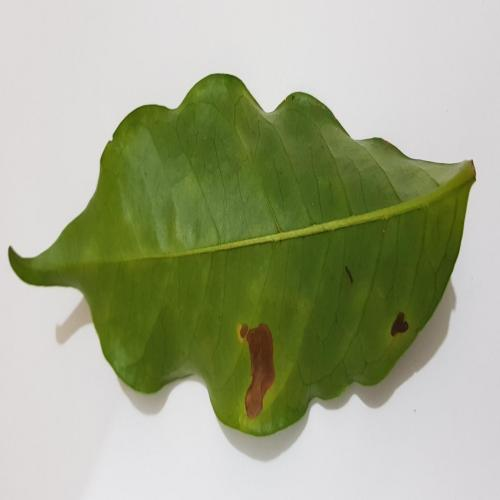leaf: (391, 313, 408, 337)
